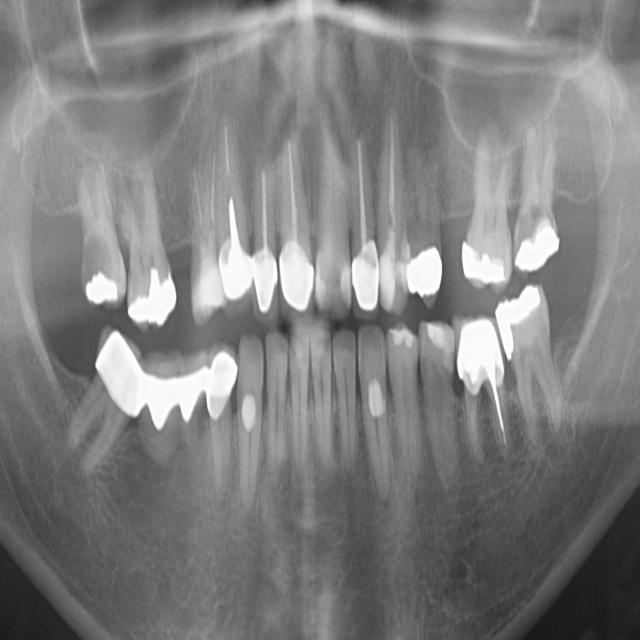infected-teeth: (455, 311, 519, 471), (279, 125, 317, 320), (378, 100, 411, 315), (188, 147, 227, 327), (198, 339, 236, 511), (348, 130, 381, 320), (218, 178, 256, 312), (250, 151, 280, 316)
